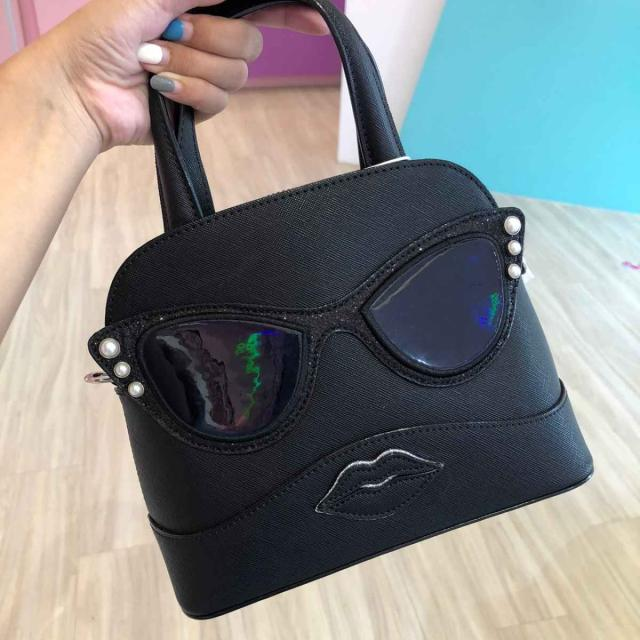Handbag: (91, 156, 591, 616)
